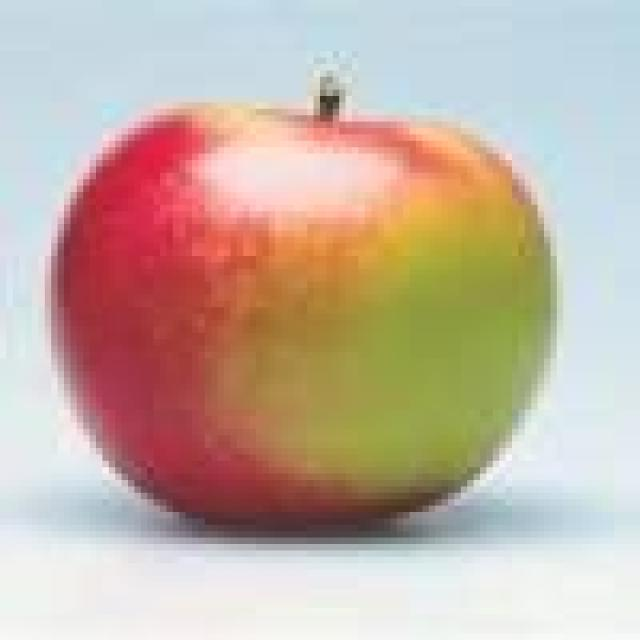apple: (44, 75, 559, 528)
